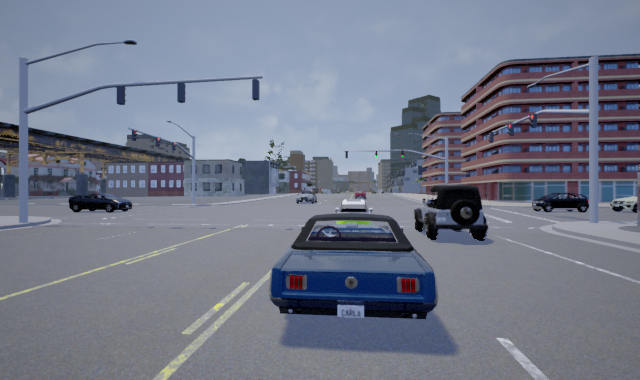traffic_light: (529, 113, 537, 128), (131, 128, 138, 141), (507, 122, 513, 137), (487, 129, 493, 142), (154, 136, 160, 148), (171, 141, 176, 151), (400, 149, 404, 160), (374, 149, 378, 159)
vehicle: (267, 212, 439, 321), (412, 184, 488, 241), (331, 198, 375, 240), (67, 192, 132, 213), (528, 192, 592, 212), (608, 191, 639, 213), (295, 191, 318, 205), (352, 189, 368, 200)
